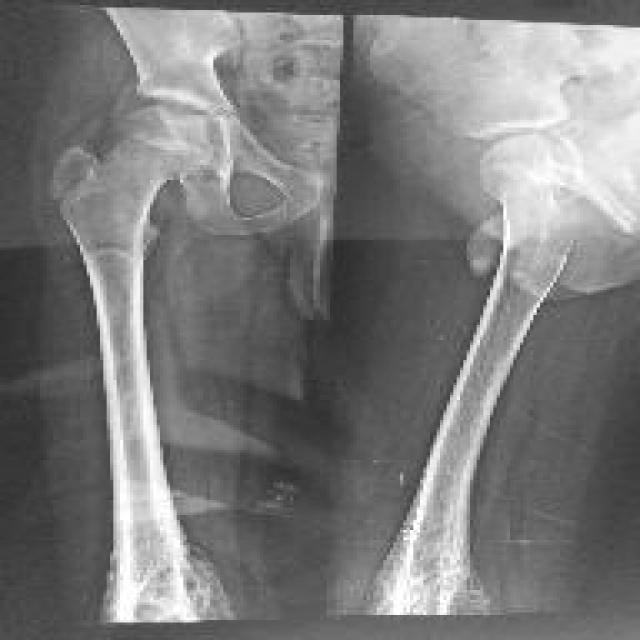bone-cancer: (377, 440, 496, 614), (108, 542, 233, 621)
